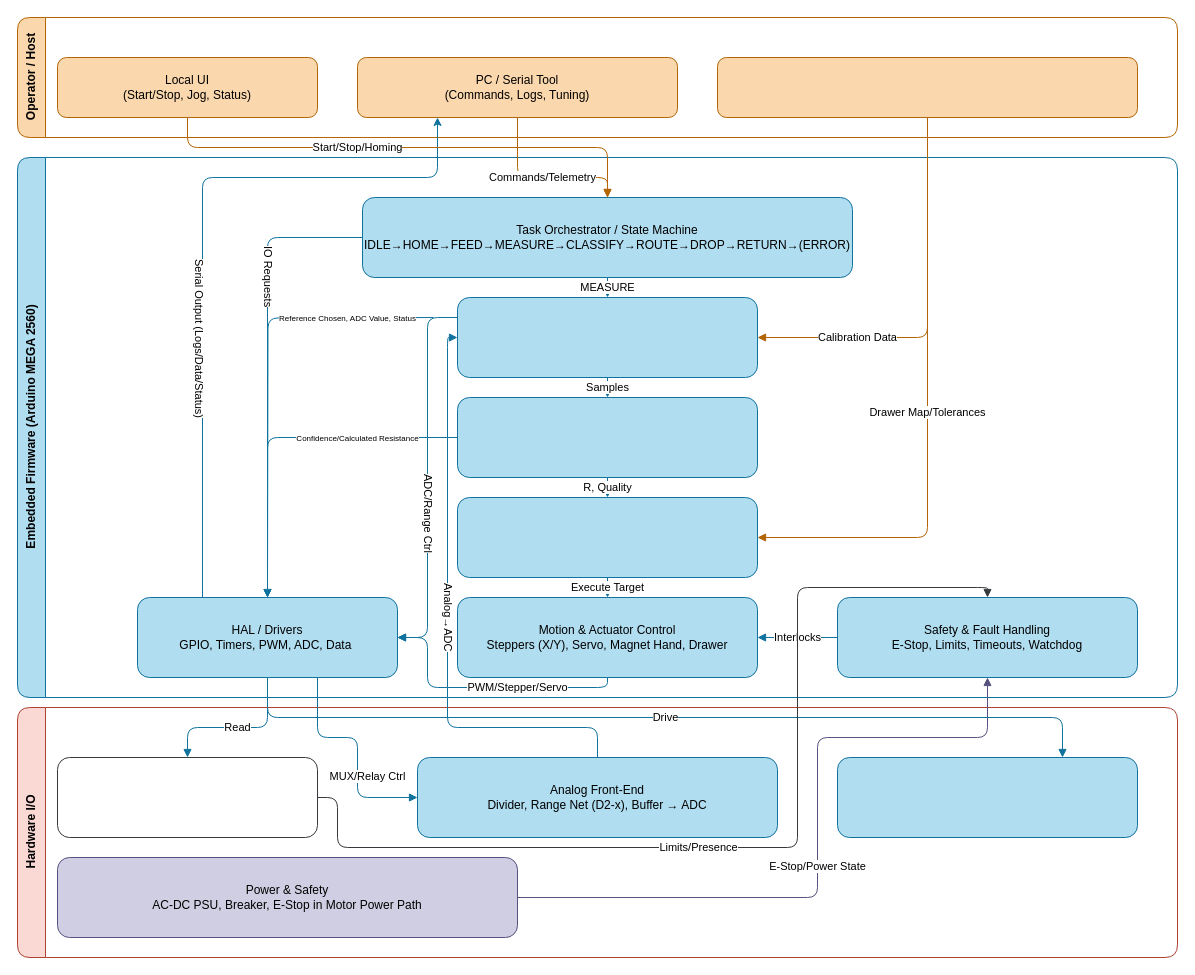
Image size: 1195x975. Some labels were removed from this diagram. Each missing label, with the centre of its shape:
"Actuators Steppers, Servo, Electromagnet, Drawer Latch, etc." goes at (987,797).
"Classification / Routing Bin Match, Tolerance Bands, OOR Handling" goes at (607,537).
"Computation & Calibration V→R, Outlier Reject, Confidence" goes at (607,437).
"Config Storage (EEPROM/SD – Calibration, Drawer Map, Settings)" goes at (927,87).
"Measurement Control Autorange, Settling, ADC Trigger/Average" goes at (607,337).
"Sensors Limit, Encoders" goes at (187,797).
